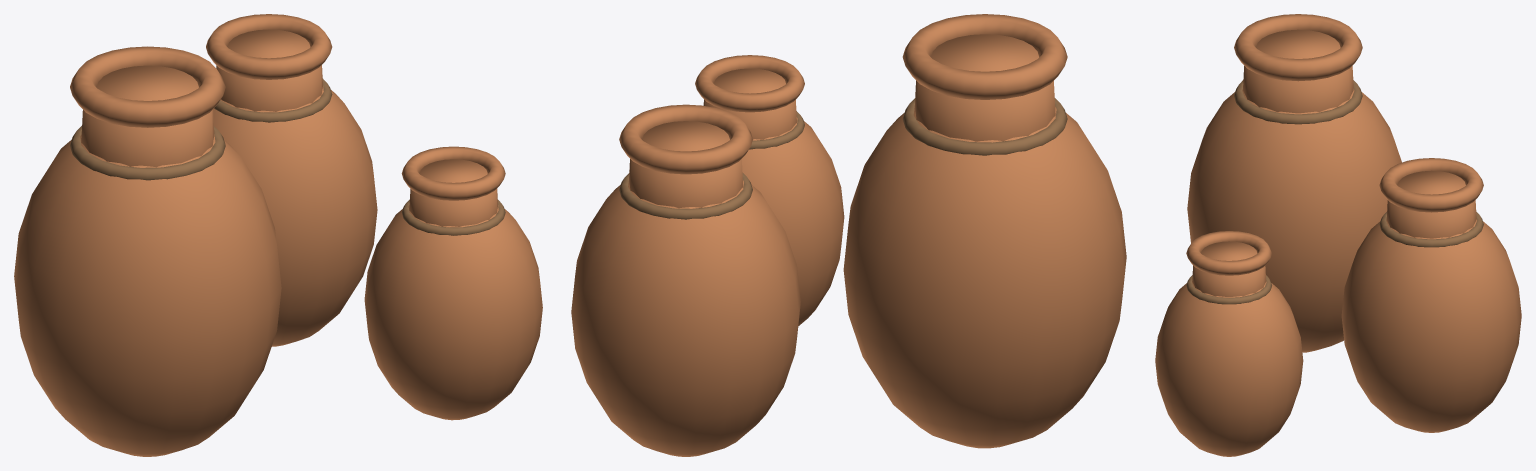
Rendered from jars.glb.
3 views of the same model, side by side, from view 1: azimuth 30°, elevation 25°; view 2: azimuth 150°, elevation 25°; view 3: azimuth 270°, elevation 25° (orthographic). The views are drawn at different scales.
Visible parts, largest first — view 1: jars; view 2: jars; view 3: jars.
Part boxes in pixels (bbox=[...]): jars: bbox=[14, 14, 542, 456]; jars: bbox=[571, 14, 1126, 456]; jars: bbox=[1155, 14, 1521, 456].
Size of the model in its own units: 0.885 by 0.6855 by 0.7425.
